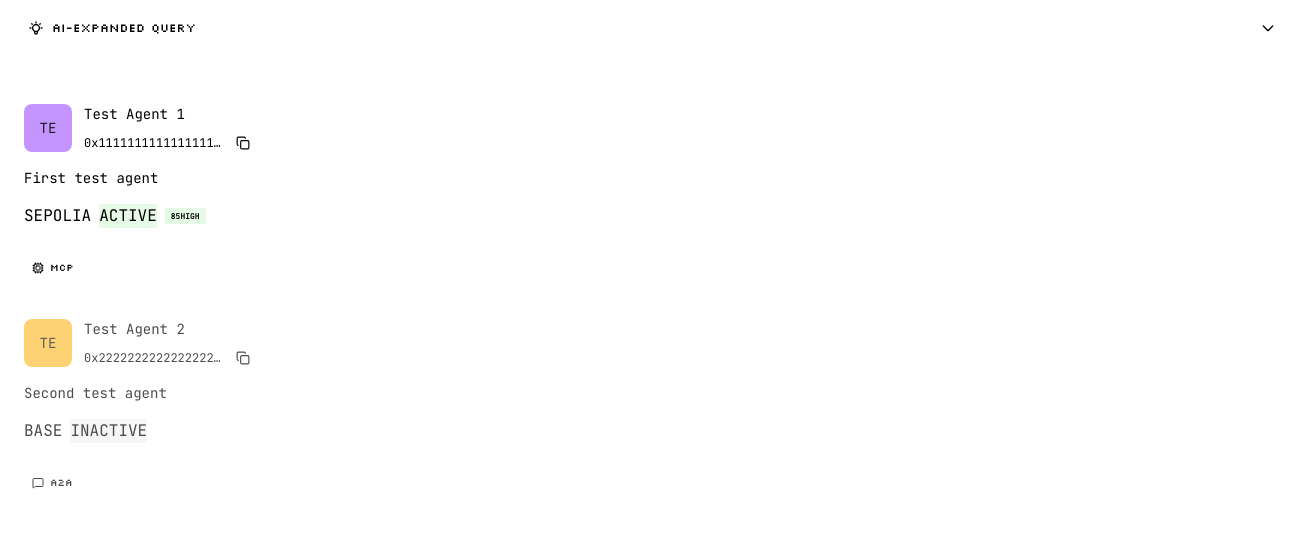
Test: SearchResults › HyDE query display › expands HyDE query content when clicked
What coordinates should you click on to do the following:
click the button with test id "hyde-query-toggle"
I would click on:
 (124, 28)
Its box is x1=12 y1=12 x2=1292 y2=44.
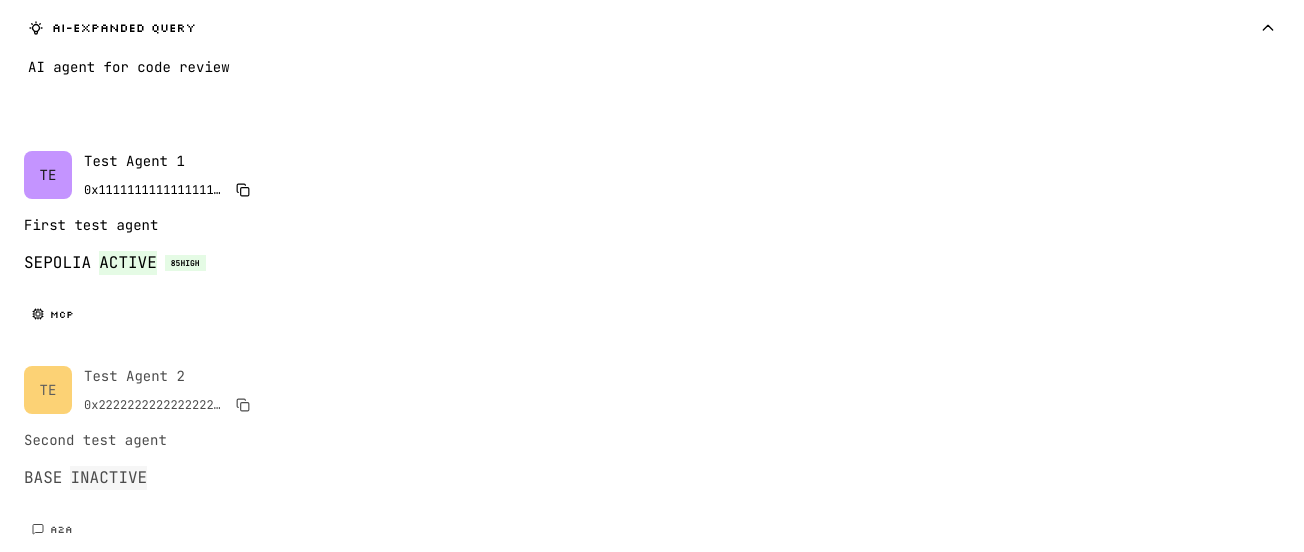
Expected: the element with test id "hyde-query-content" is shown, x1=28 y1=58 x2=230 y2=76
Expected: the button with test id "hyde-query-toggle" is expanded, x1=12 y1=12 x2=1292 y2=44
